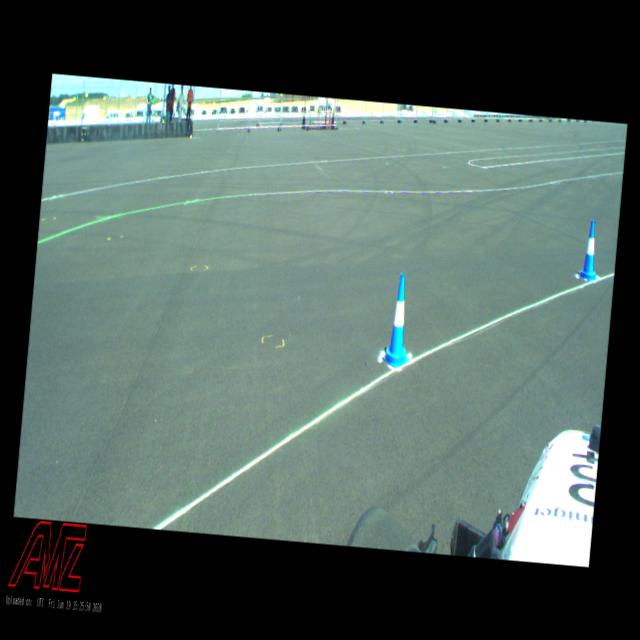blue_cone: (382, 272, 416, 369), (578, 220, 600, 280)
